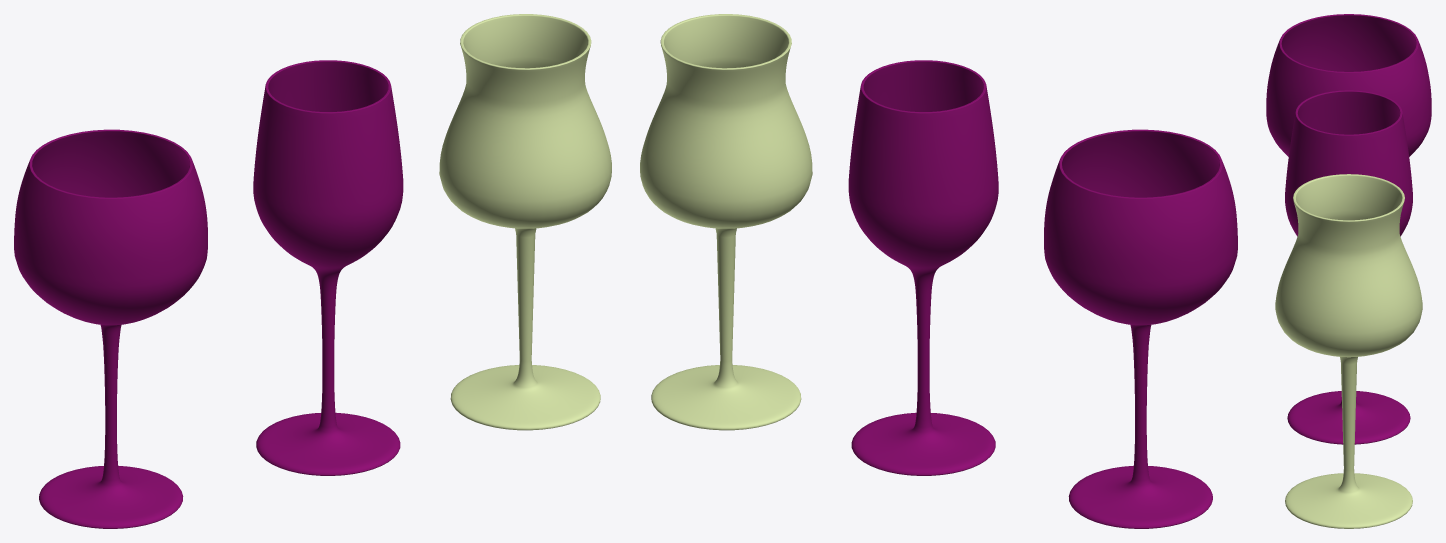
Rendered from WineGlasses.obj.
3 views of the same model, side by side, from view 1: azimuth 30°, elevation 25°; view 2: azimuth 150°, elevation 25°; view 3: azimuth 270°, elevation 25° (orthographic). The views are drawn at different scales.
Visible parts, largest first — view 1: WineGlass_01, WineGlass_03, WineGlass_02; view 2: WineGlass_01, WineGlass_03, WineGlass_02; view 3: WineGlass_03, WineGlass_02, WineGlass_01.
Part boxes in pixels (x1,y1,x2,y2): WineGlass_01: [14, 129, 207, 528]; WineGlass_03: [439, 14, 611, 430]; WineGlass_02: [253, 60, 403, 475]; WineGlass_01: [1044, 129, 1237, 528]; WineGlass_03: [640, 14, 812, 430]; WineGlass_02: [848, 60, 998, 475]; WineGlass_03: [1275, 174, 1422, 528]; WineGlass_02: [1285, 90, 1412, 444]; WineGlass_01: [1266, 14, 1431, 156].
Bounding box in the file's own units: 104 × 62.42 × 30.48.
